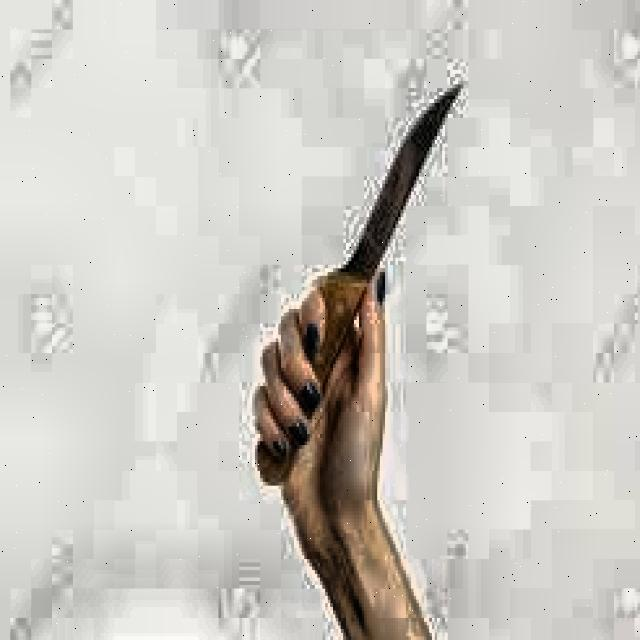knife: (258, 87, 462, 487)
